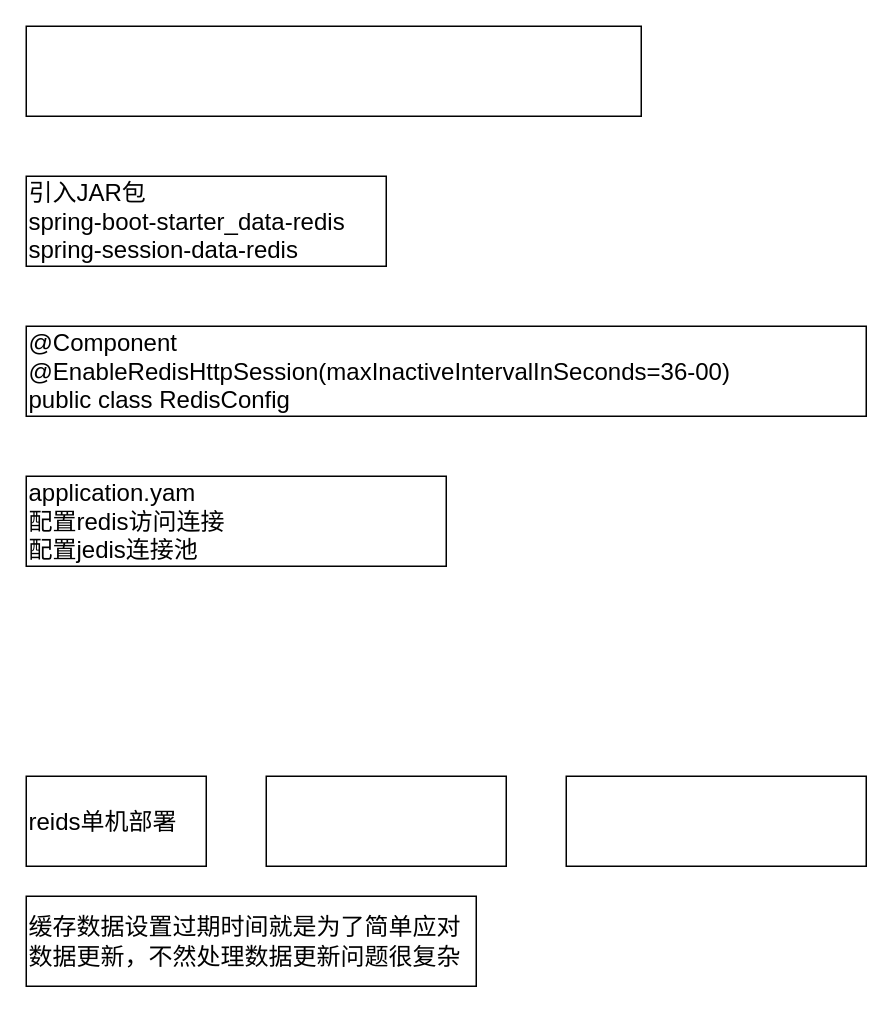
Image size: 893x1013. Some labels were removed from this diagram. Each missing label, with the box of its shape:
reids哨兵模式部署: (265, 775, 506, 866)
reids集群cluster模式部署: (565, 775, 866, 866)
基于cookie传输sessionId：java tomcat容器session 基于token传输类似sessionId：java代码session: (25, 25, 641, 116)
